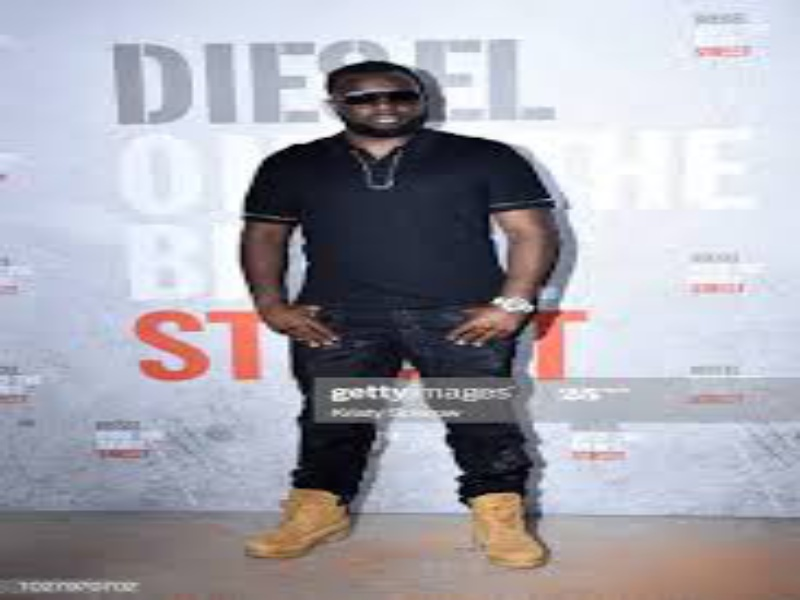TsisyArotava: (321, 63, 436, 138)
